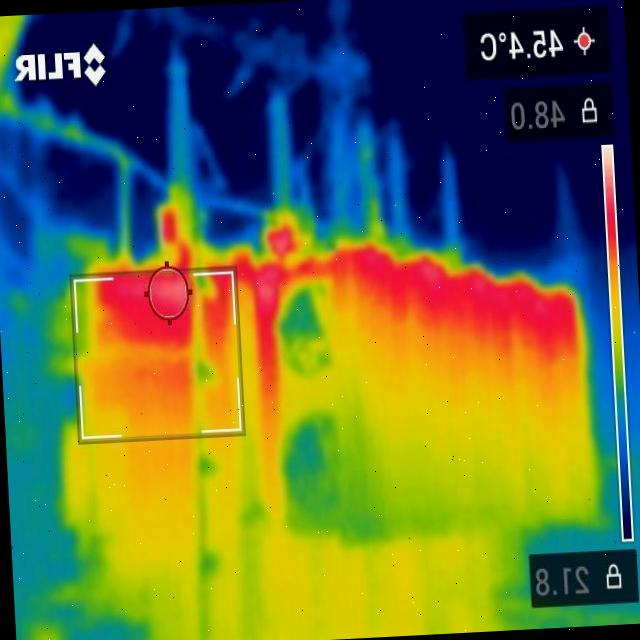loose_joint_red: (156, 184, 206, 257), (264, 203, 315, 261)
loose_joint_yellow: (367, 192, 389, 245)
point_overload_yellow: (0, 90, 91, 142), (120, 149, 132, 258)
